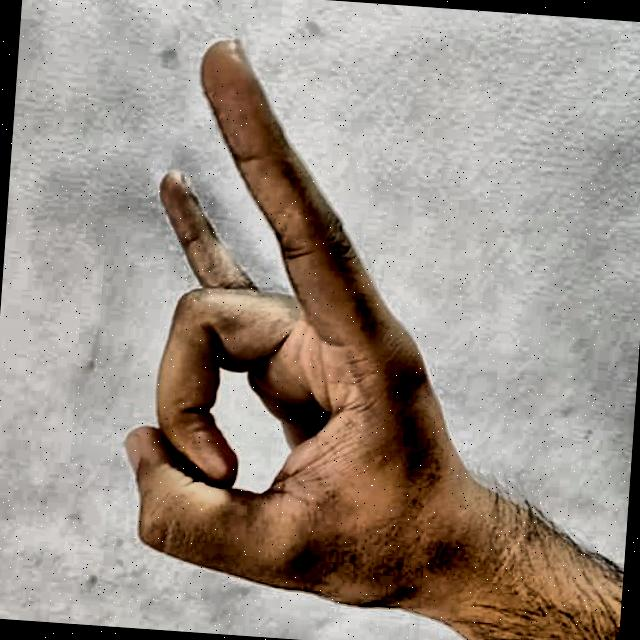Cha: (72, 21, 519, 640)
